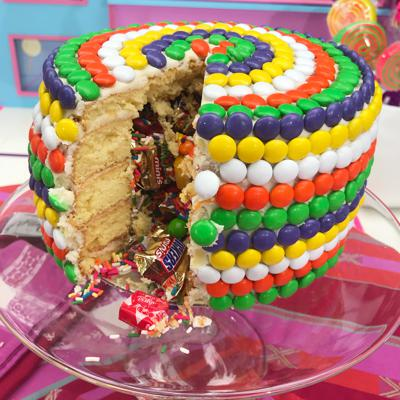cake: (27, 15, 384, 332)
